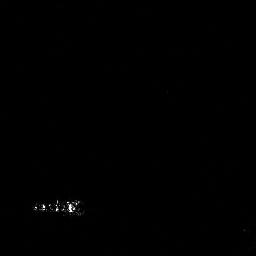ship: (32, 197, 85, 220)
